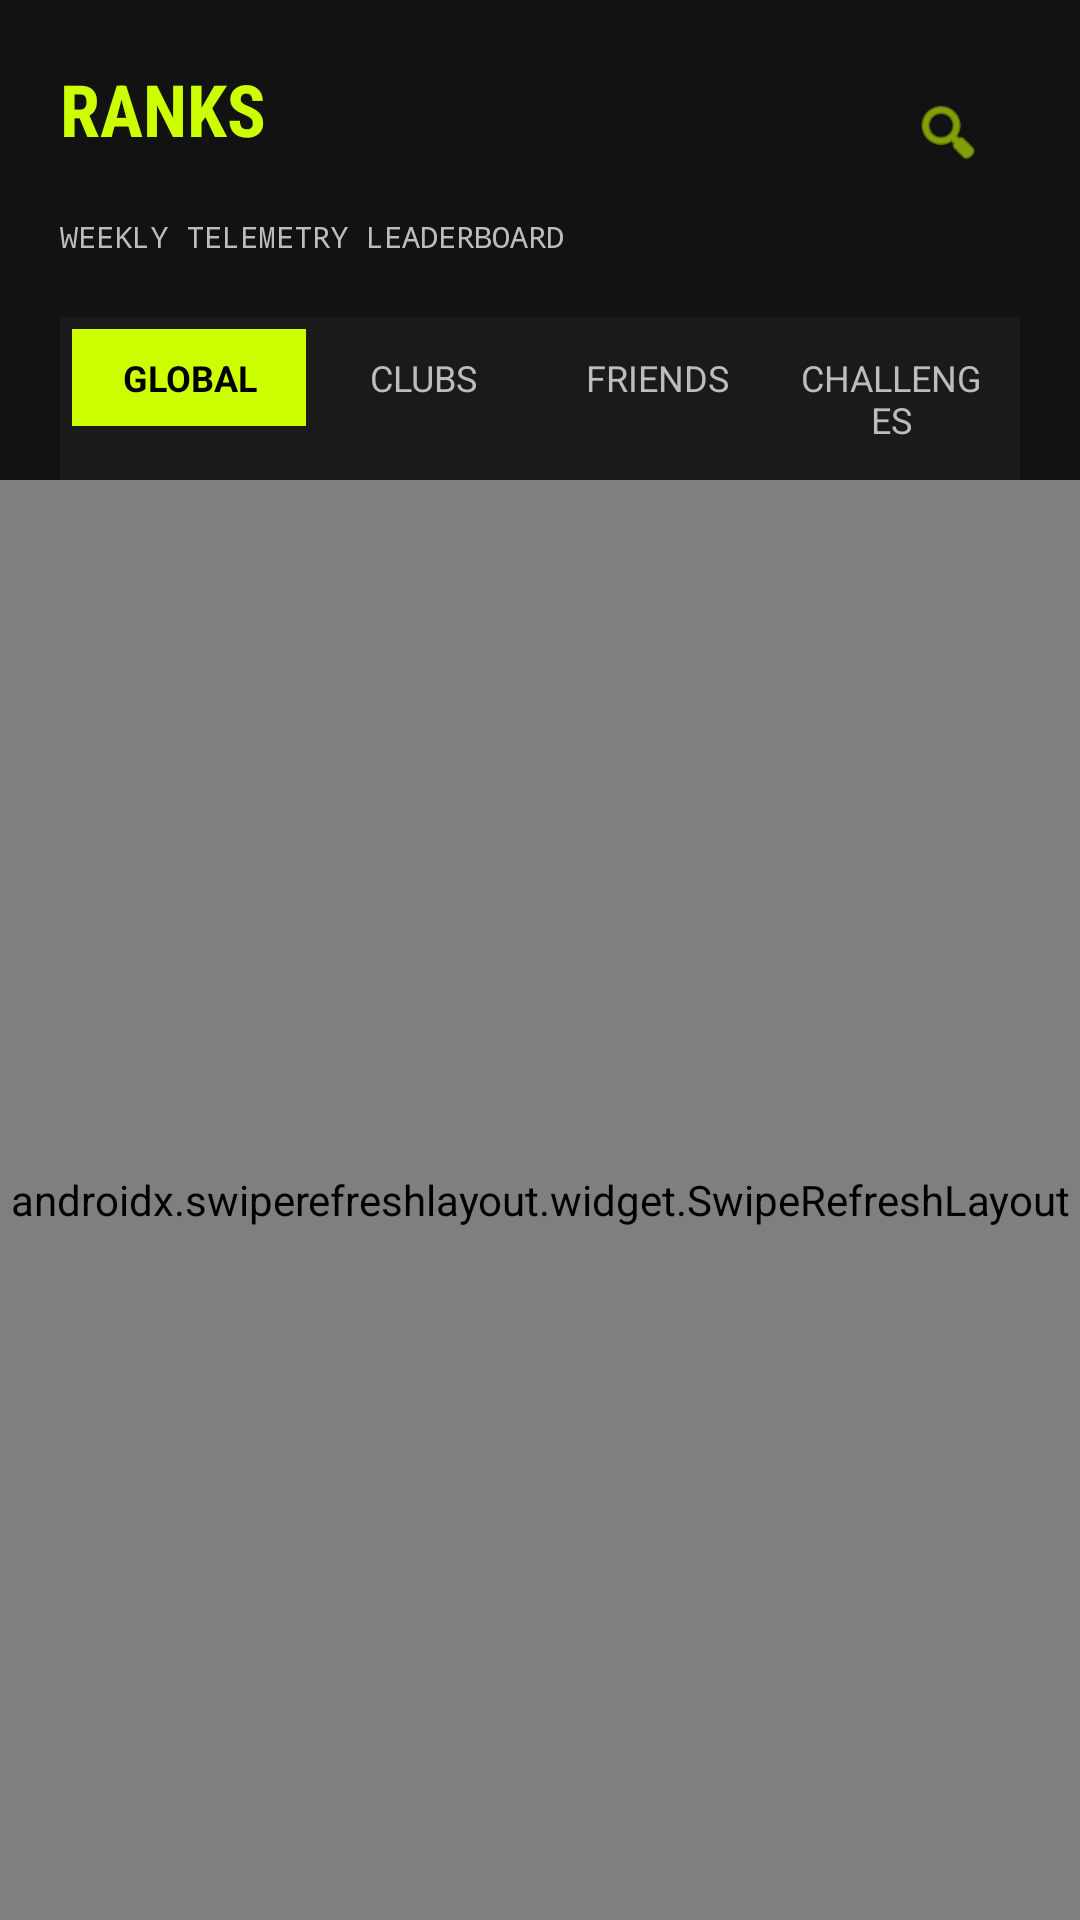

Point at icon controls on the screen. Image size 1080 × 1920, points as [x,y].
Search Athletes: [948,132]
